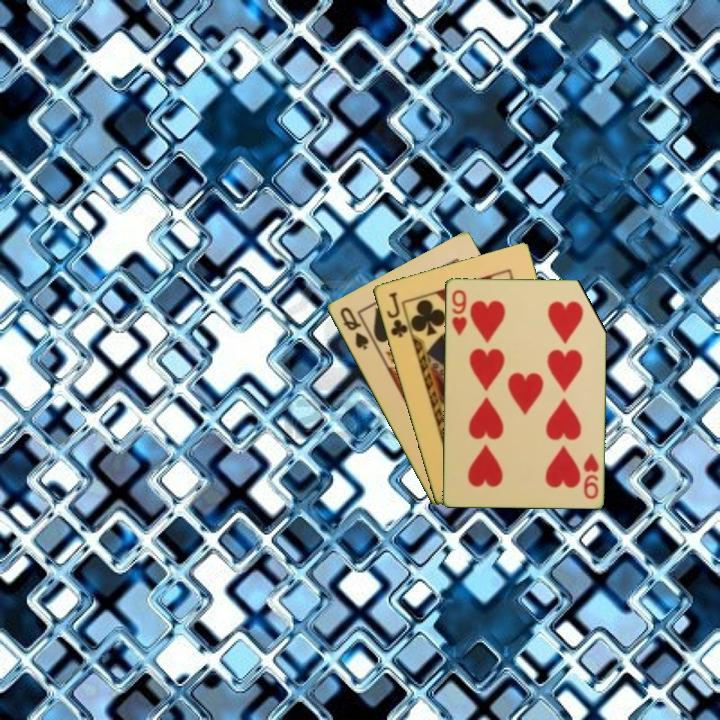9h: (580, 449, 601, 502), (448, 286, 469, 338)
Jc: (383, 288, 410, 340)
Qs: (336, 303, 371, 353)
